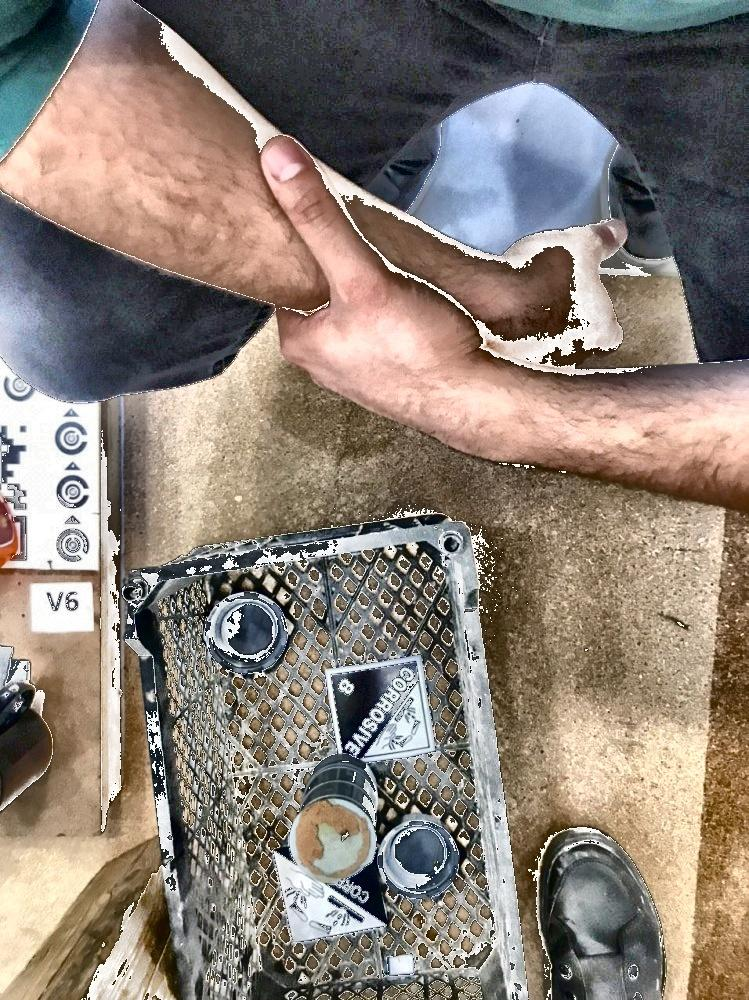corrosive: (275, 839, 386, 944), (324, 655, 436, 758)
